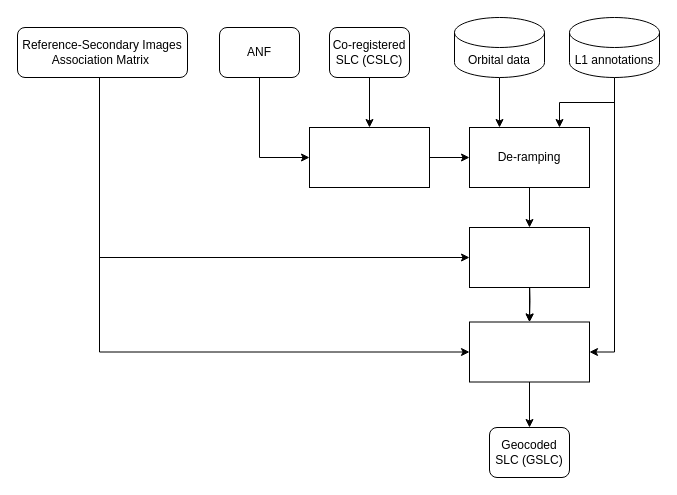
Some shapes in this 677 by 495 pixel diagram are drawn without their labels. The box of each missing label's shape, as (x1, y1, x2, y2) in pixels:
Gamma Falttening: (308, 126, 430, 188)
Image resampling (sinc based): (468, 226, 590, 288)
Re-ramping: (468, 321, 590, 382)
